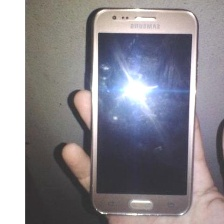phone: (86, 2, 204, 219)
